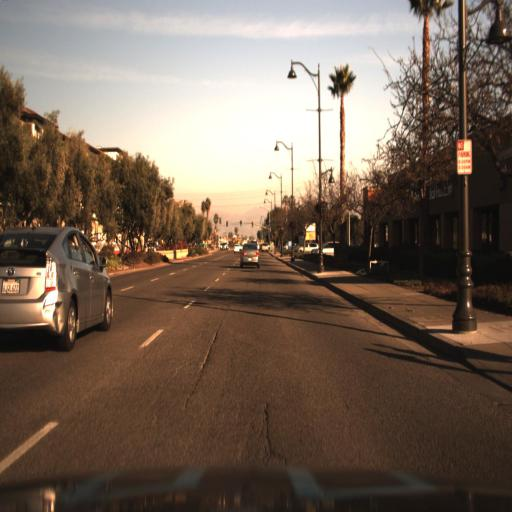car: (0, 217, 117, 352), (308, 229, 346, 264), (237, 240, 264, 271)
